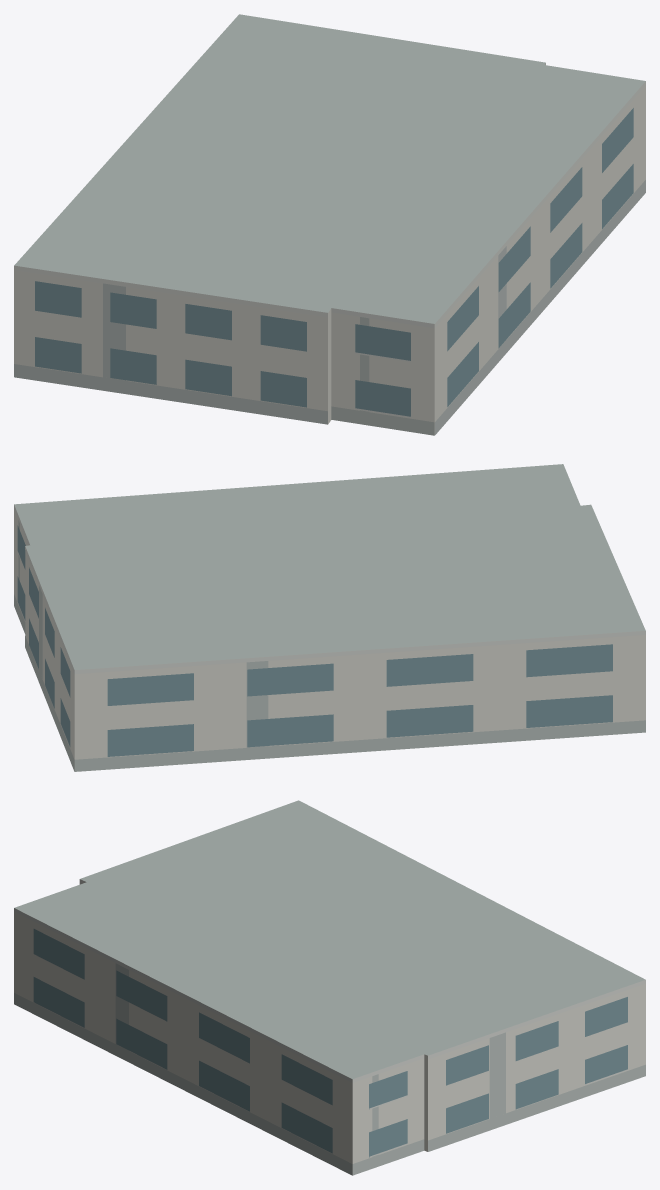
The model's file is survey-upis-32919155.glb.
The picture shows the model from 3 angles, top to bottom: view 1: azimuth 30°, elevation 25°; view 2: azimuth 150°, elevation 25°; view 3: azimuth 270°, elevation 25°; orthographic projection. The views are drawn at different scales.
Parts seen in each view (by area): view 1: survey-upis-32919155.tmp; view 2: survey-upis-32919155.tmp; view 3: survey-upis-32919155.tmp.
Boxes of the visible parts, x1=… form: survey-upis-32919155.tmp: x1=14, y1=14, x2=645, y2=435; survey-upis-32919155.tmp: x1=14, y1=464, x2=645, y2=771; survey-upis-32919155.tmp: x1=14, y1=800, x2=645, y2=1175.
Bounding box in the file's own units: 37.88 × 6.1 × 36.26.
